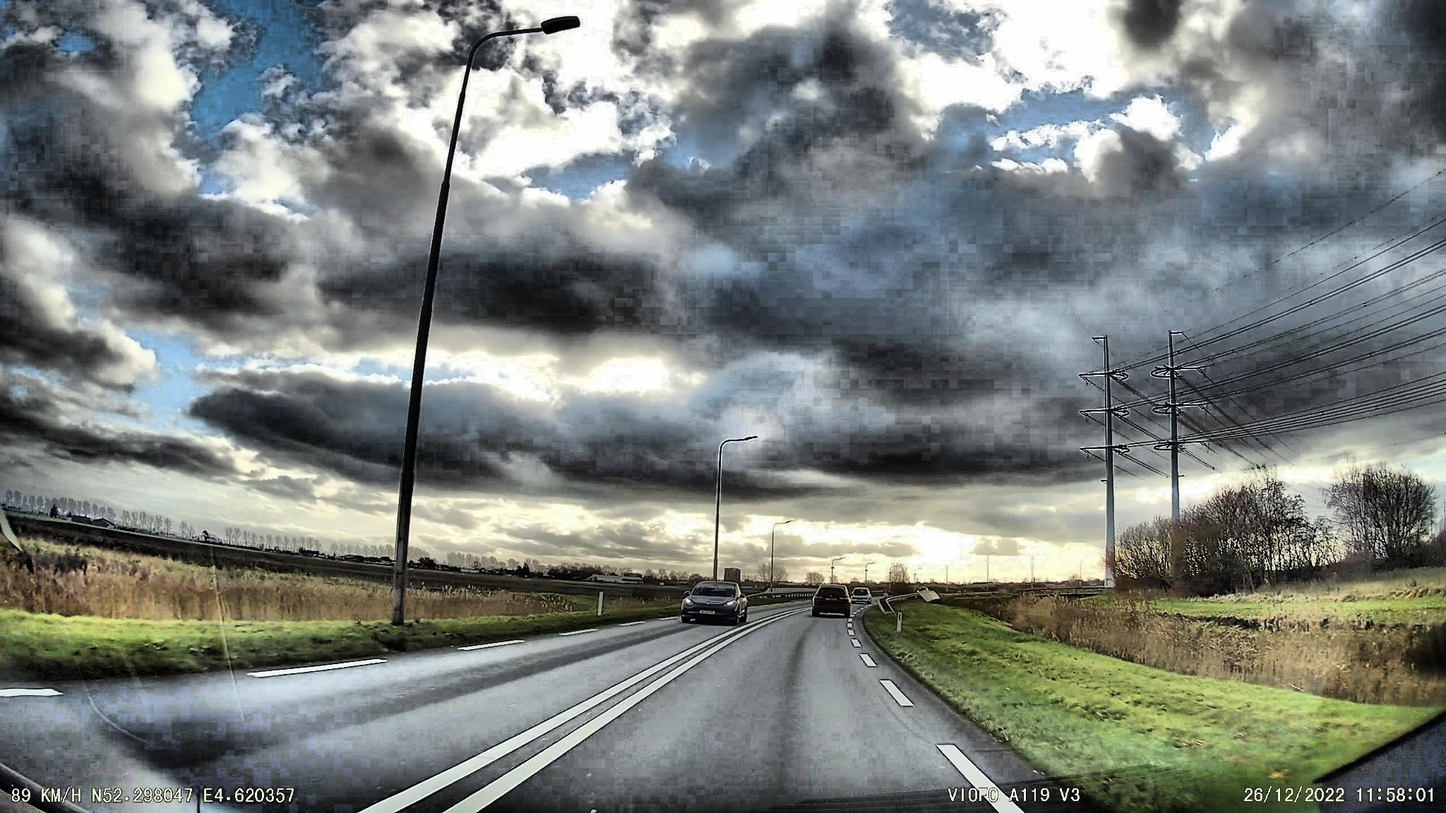Roads: (0, 604, 1101, 813)
